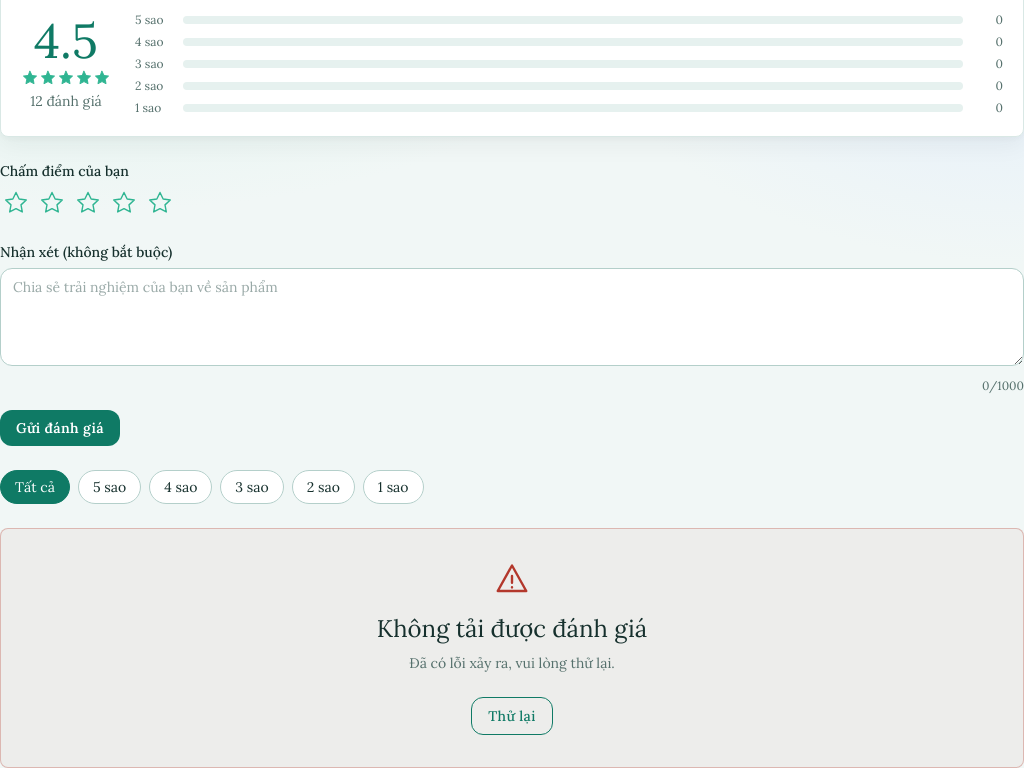
tóm tắt và danh sách › lỗi tải: error state có nút thử lại
This screenshot has width=1024, height=768.
(page scrolled)
Click the button "Thử lại".
click(512, 716)  # box [471,697,553,735]
(page scrolled)
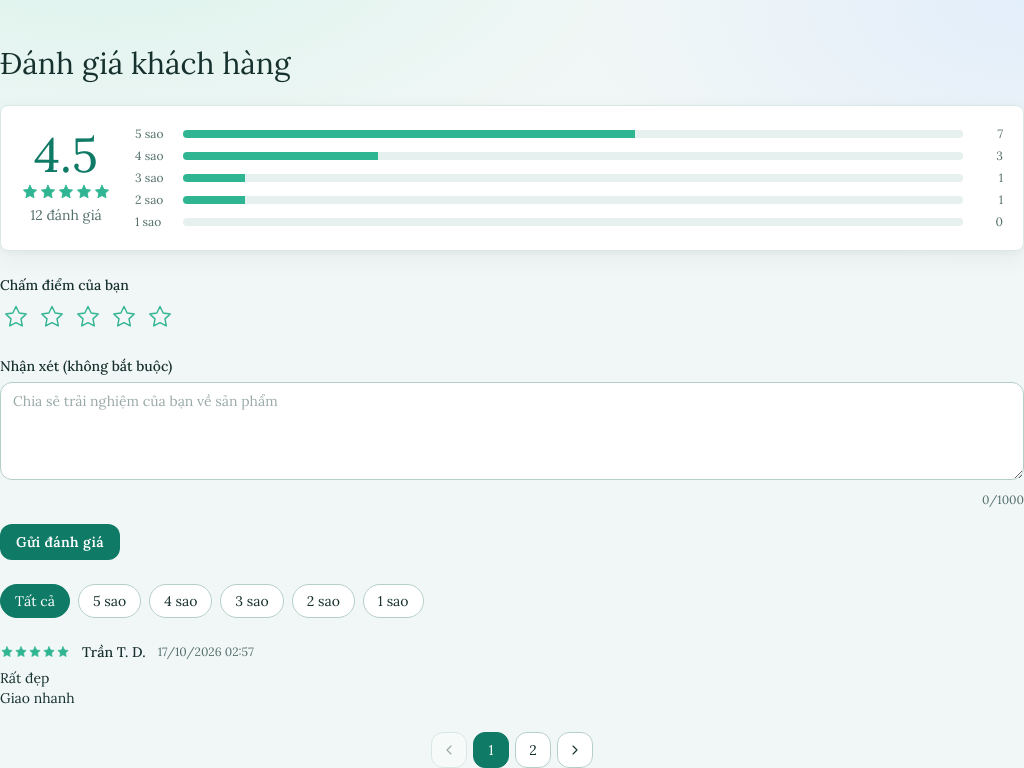
Expected: the text "Trần T. D." is shown, [82,642,146,662]
